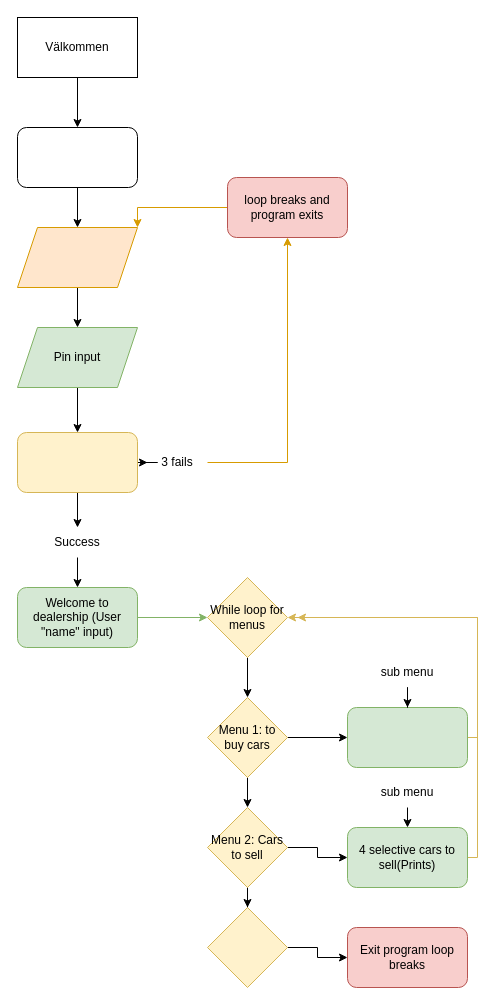
Image size: 503x1005. Some labels were removed from this diagram. Here are the shapes that lost their labels. From the top down, the centre of each, then its label:
At pixel 77 157: "input name".
At pixel 77 257: "While loop whole progam".
At pixel 77 462: "PinAccess ( 3 tries)".
At pixel 407 737: "4 selective cars to buy (Prints)".
At pixel 247 947: "Menu 3".
